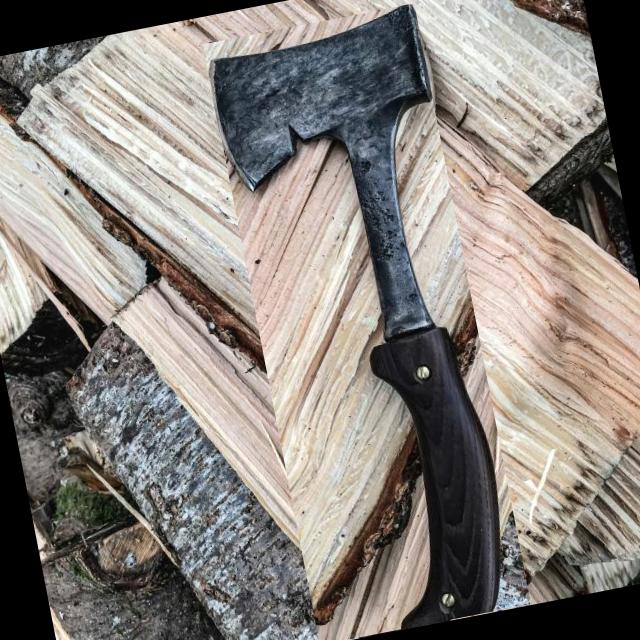Axe: (211, 4, 501, 629)
